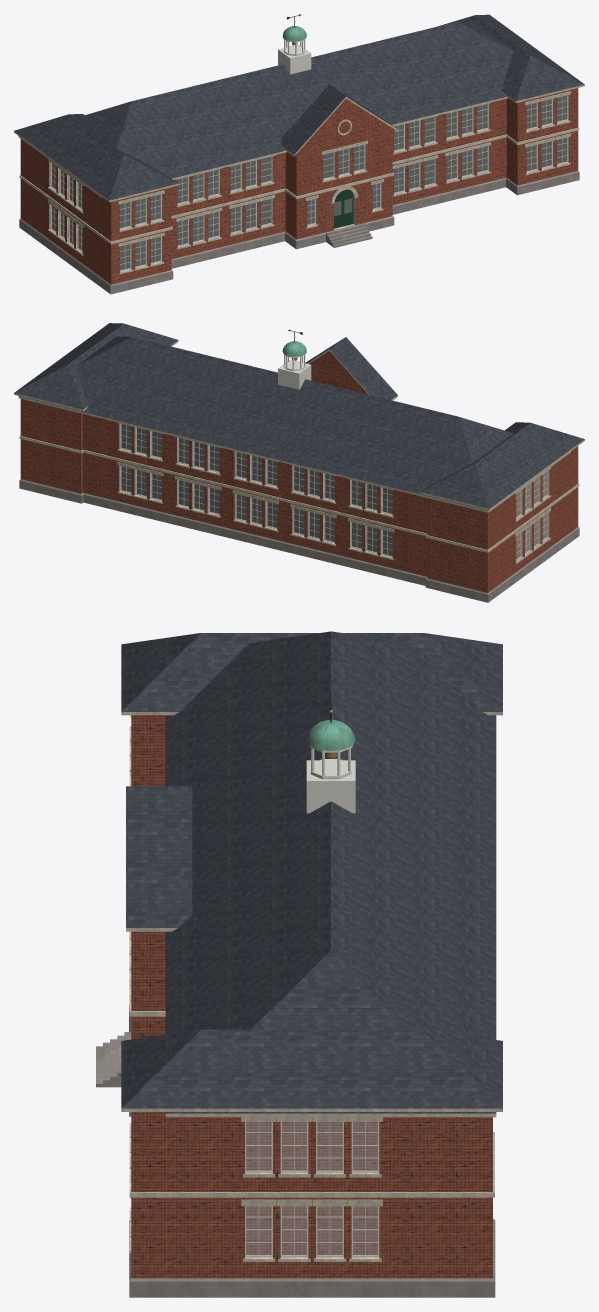
Rendered from school-building_74_yizq.glb.
The picture shows the model from 3 angles, top to bottom: view 1: azimuth 30°, elevation 25°; view 2: azimuth 150°, elevation 25°; view 3: azimuth 270°, elevation 25°; orthographic projection. The views are drawn at different scales.
Parts seen in each view (by area): view 1: Roof, Main block, Pavilions, Glazing, Entrance pavilion, Plinth, Window frames, Dressings, String courses, Cupola, Steps, Doors; view 2: Roof, Main block, Pavilions, Glazing, Plinth, Window frames, Dressings, String courses, Cupola, Entrance pavilion; view 3: Roof, Pavilions, Main block, Glazing, Plinth, Cupola, Entrance pavilion, Window frames, Dressings, String courses, Steps.
Part boxes in pixels (x1,y1,x2,y2): Roof: [14, 14, 584, 202]; Main block: [52, 98, 506, 258]; Pavilions: [20, 88, 578, 284]; Glazing: [51, 95, 567, 270]; Entrance pavilion: [285, 98, 392, 239]; Plinth: [19, 171, 579, 294]; Window frames: [50, 95, 568, 271]; Dressings: [48, 91, 570, 274]; String courses: [19, 127, 579, 244]; Cupola: [278, 14, 311, 74]; Steps: [326, 223, 372, 247]; Doors: [334, 189, 353, 228]; Roof: [14, 323, 584, 512]; Main block: [83, 414, 546, 576]; Pavilions: [20, 399, 578, 592]; Glazing: [121, 424, 547, 559]; Plinth: [19, 479, 579, 602]; Window frames: [120, 423, 548, 560]; Dressings: [117, 422, 550, 564]; String courses: [19, 435, 579, 552]; Cupola: [278, 329, 311, 389]; Entrance pavilion: [309, 351, 367, 394]; Roof: [121, 631, 502, 1117]; Pavilions: [131, 715, 492, 1278]; Main block: [246, 1122, 377, 1254]; Glazing: [246, 1122, 377, 1255]; Plinth: [129, 1005, 495, 1297]; Cupola: [306, 690, 355, 813]; Entrance pavilion: [131, 931, 165, 1039]; Window frames: [245, 1122, 379, 1256]; Dressings: [129, 715, 382, 1261]; String courses: [129, 772, 494, 1197]; Steps: [96, 1032, 130, 1087].
Bounding box in the file's own units: 49.5 × 18.44 × 18.35.
13 materials, 13 textured.
